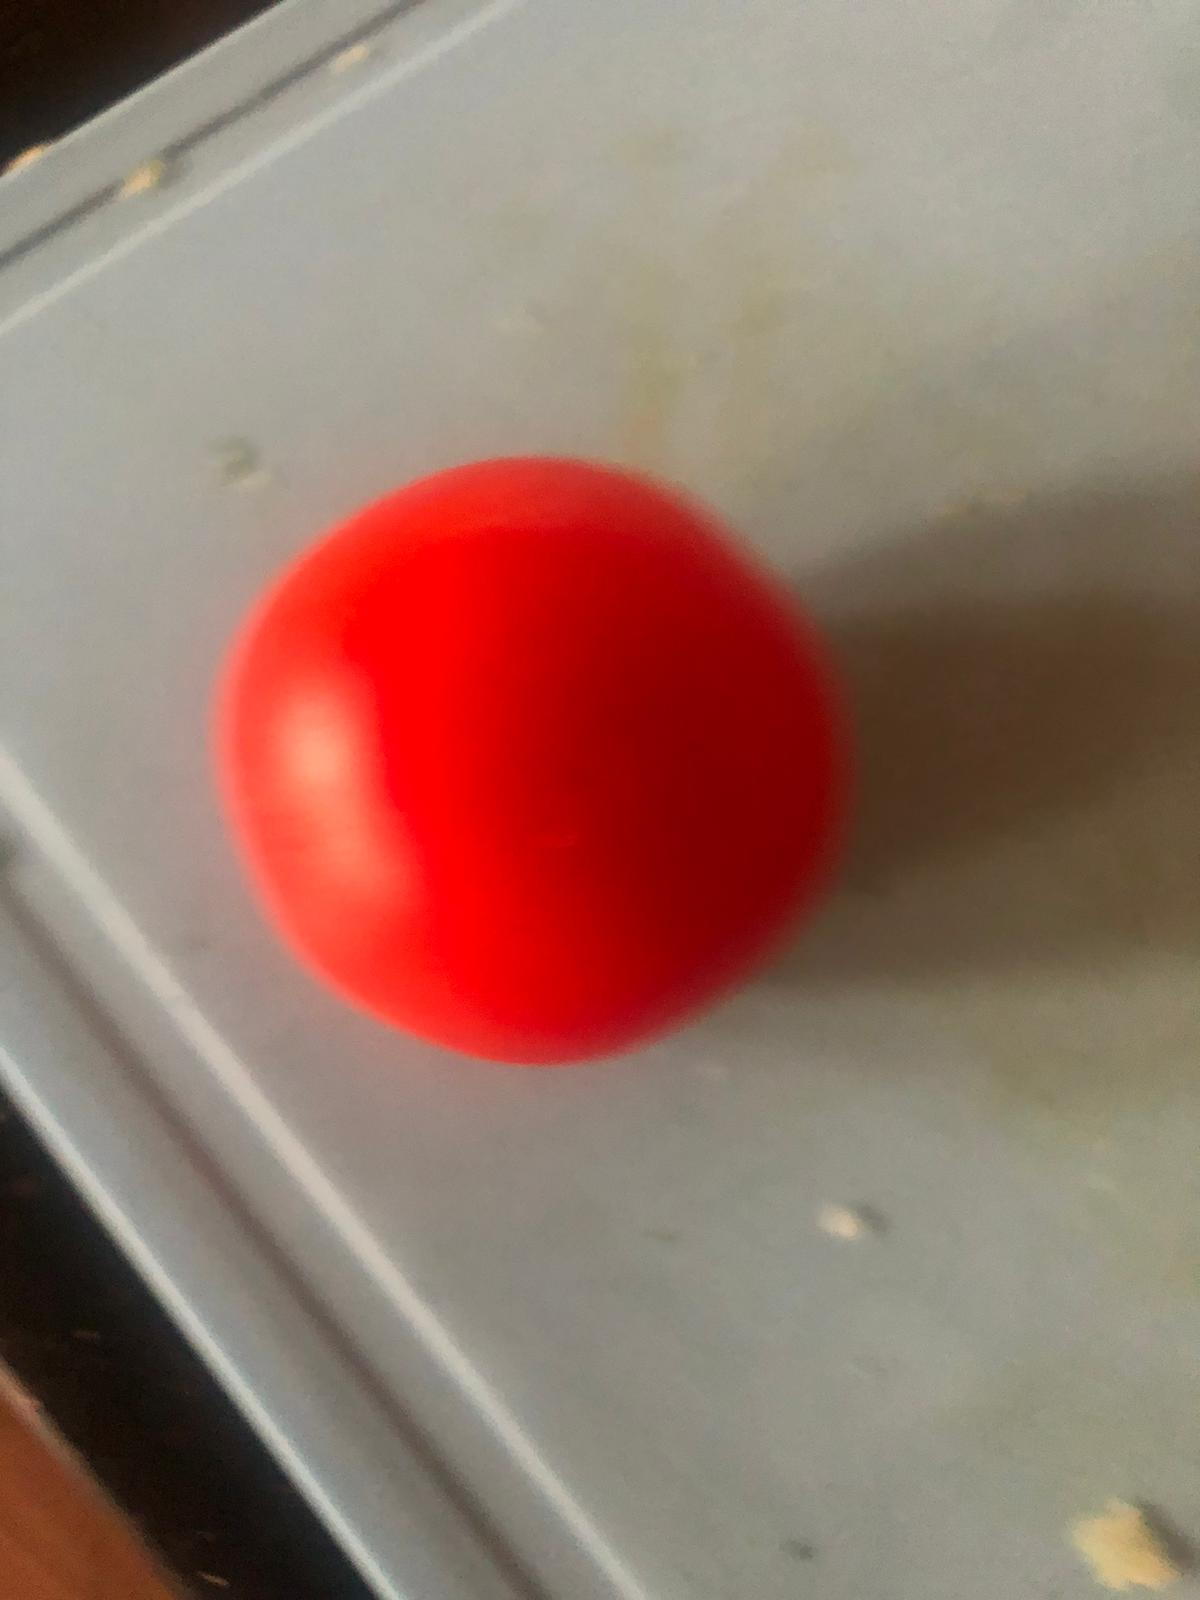Tomato: (217, 459, 845, 1080)
